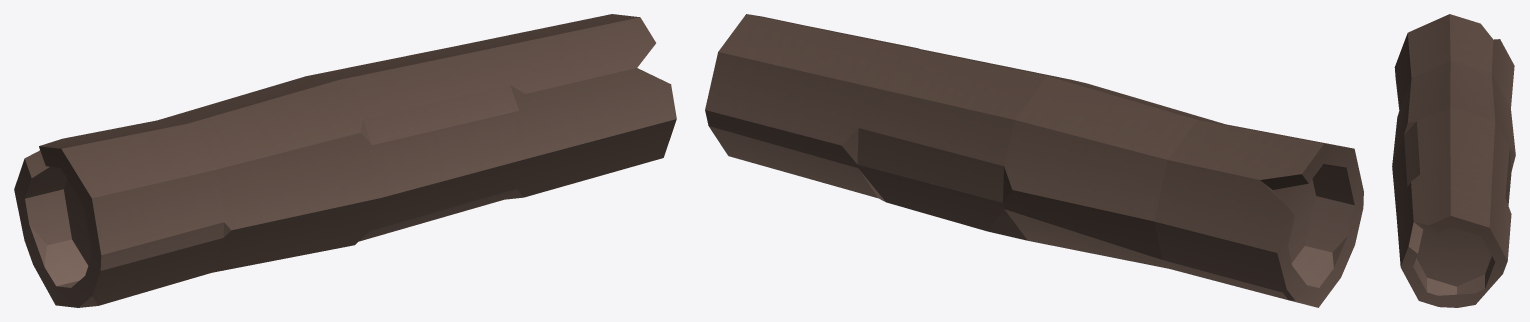
The model's file is Log.fbx.
3 renders of one model, left to right at view 1: azimuth 30°, elevation 25°; view 2: azimuth 150°, elevation 25°; view 3: azimuth 270°, elevation 25°, orthographic. The views are drawn at different scales.
Parts seen in each view (by area): view 1: Circle.001; view 2: Circle.001; view 3: Circle.001.
Boxes of the visible parts, left/top/right/bottom form: Circle.001: left=14, top=14, right=676, bottom=307; Circle.001: left=705, top=14, right=1363, bottom=307; Circle.001: left=1392, top=14, right=1515, bottom=307.
Size of the model in its own units: 2850 by 764 by 766.
